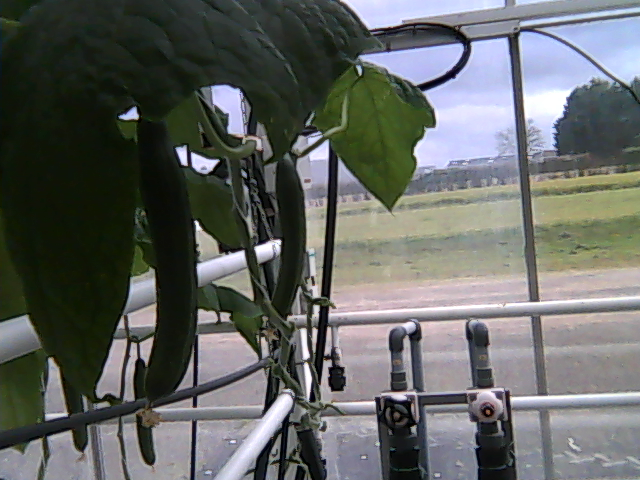concombre: (126, 116, 201, 430), (264, 160, 312, 339)
